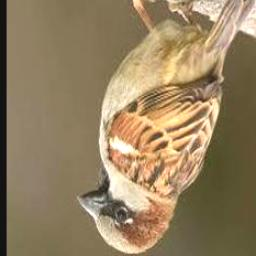Sparrow: (76, 0, 256, 255)
